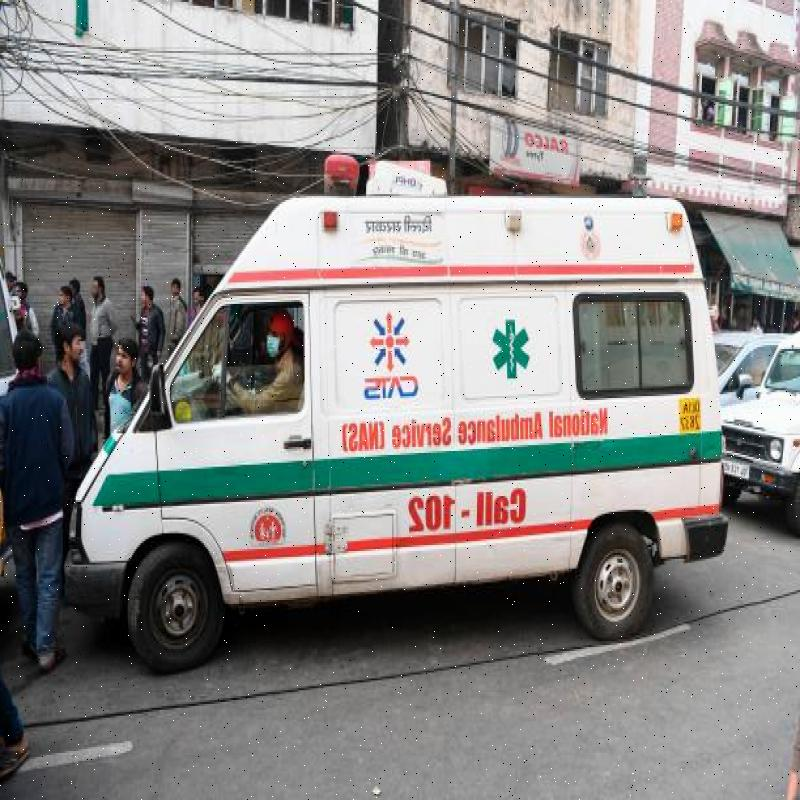ambulance: (58, 167, 728, 647)
